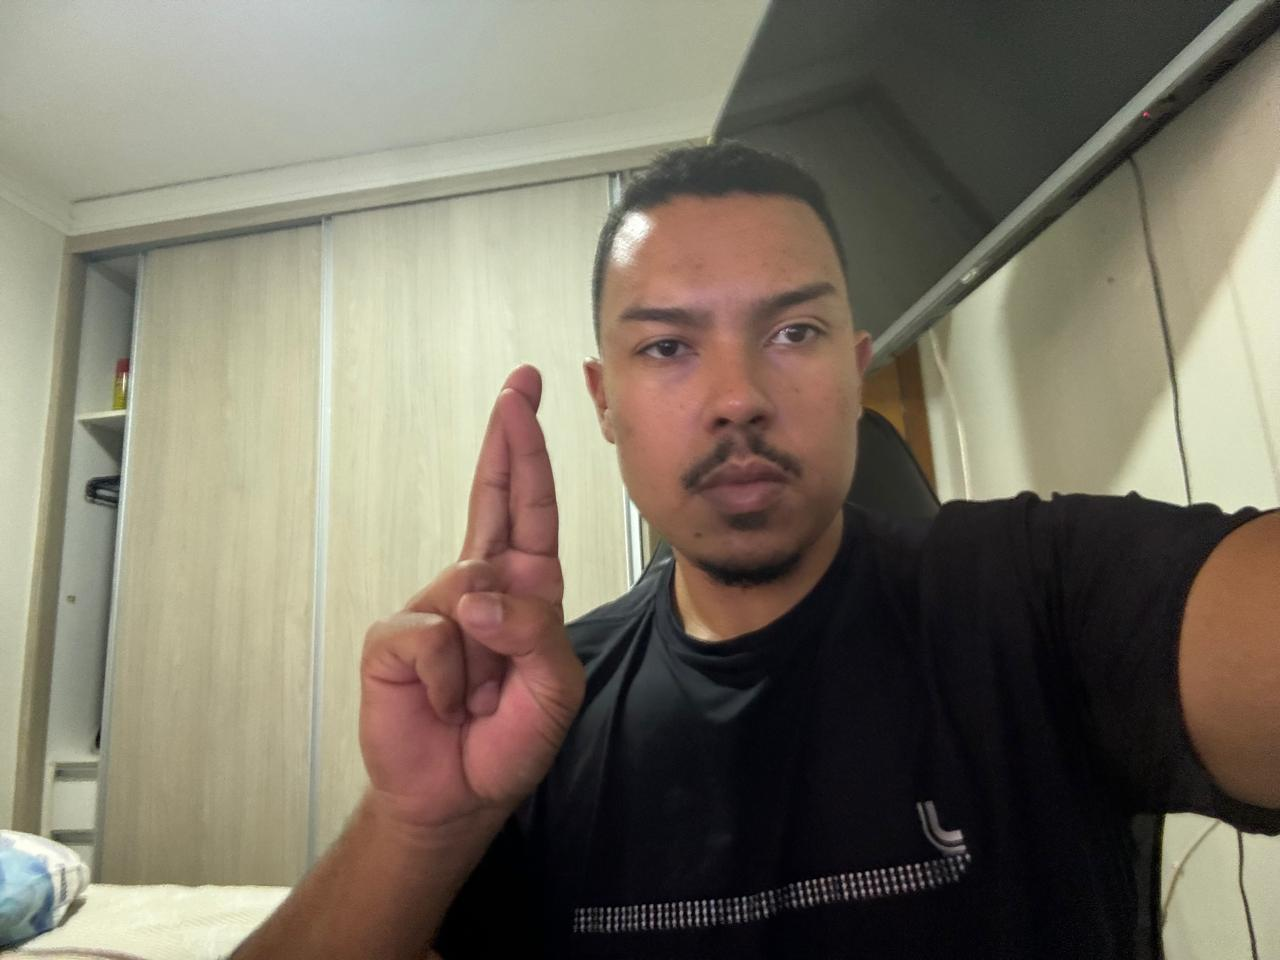r: (350, 354, 595, 824)
